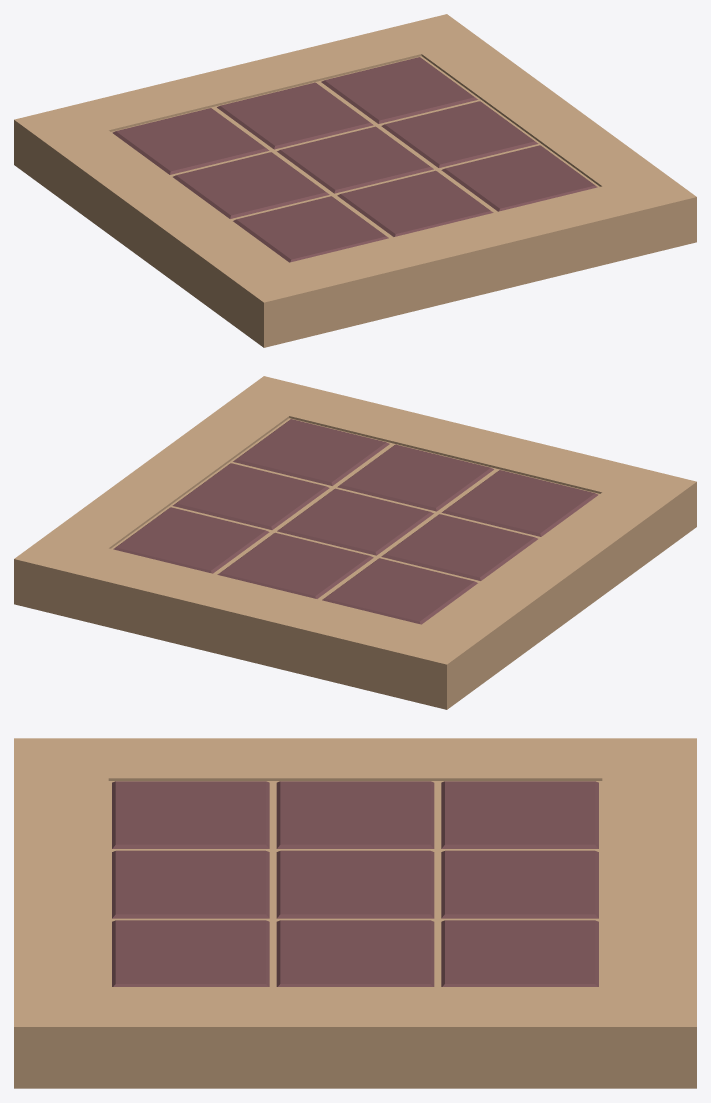
Rendered from floor22.glb.
The picture shows the model from 3 angles, top to bottom: view 1: azimuth 30°, elevation 25°; view 2: azimuth 150°, elevation 25°; view 3: azimuth 270°, elevation 25°; orthographic projection. The views are drawn at different scales.
Parts seen in each view (by area): view 1: Floor5; view 2: Floor5; view 3: Floor5.
Boxes of the visible parts, x1,y1,x2,y2 form: Floor5: (14, 14, 696, 347); Floor5: (14, 376, 696, 709); Floor5: (14, 738, 696, 1088).
Bounding box in the file's own units: 2 × 0.2 × 2.
1 material, 1 textured.
